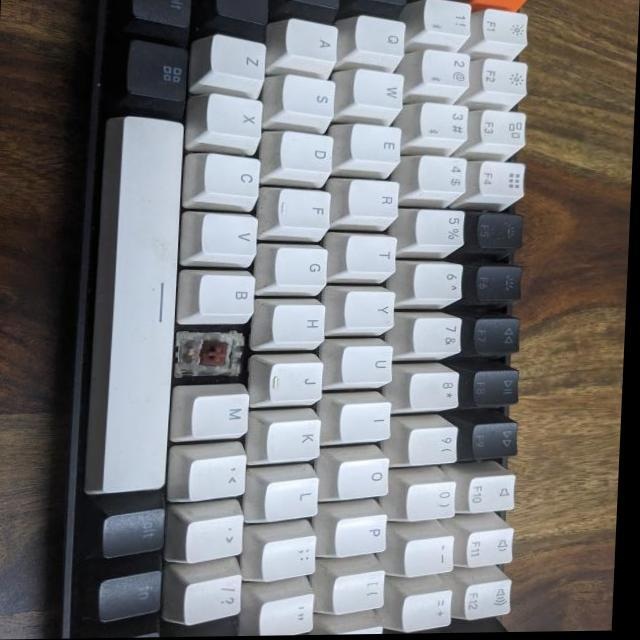key-switch: (180, 332, 247, 376)
